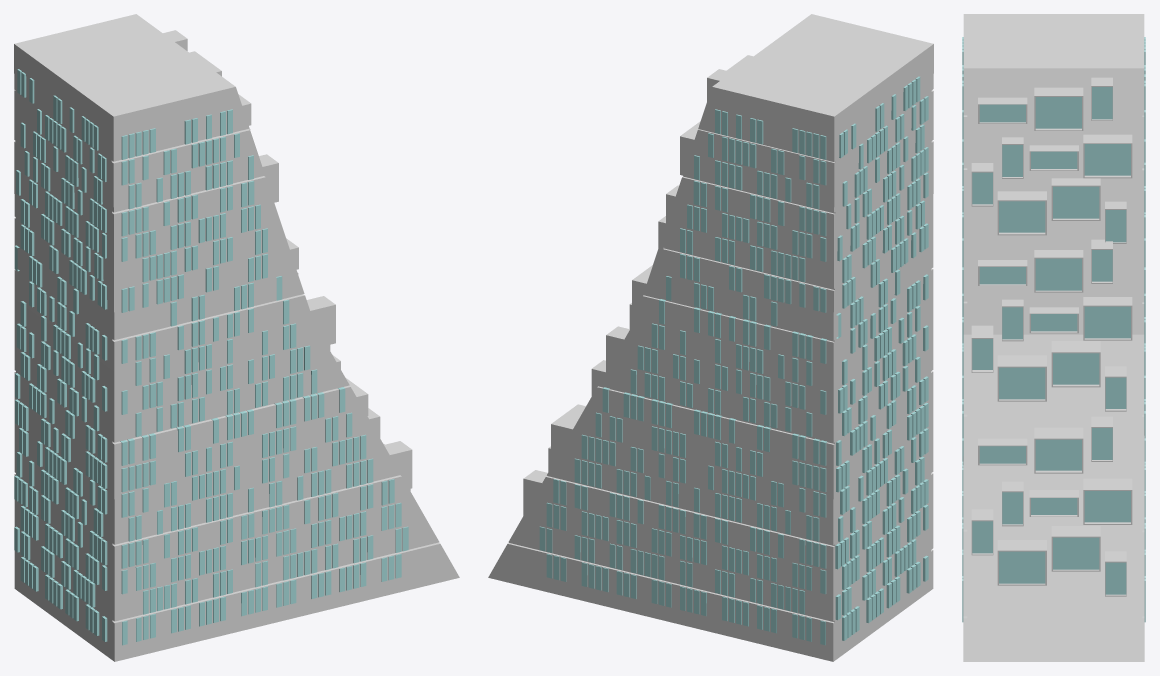
File: building petite fenetres blanche.fbx
3 renders of one model, left to right at view 1: azimuth 30°, elevation 25°; view 2: azimuth 150°, elevation 25°; view 3: azimuth 270°, elevation 25°, orthographic. The views are drawn at different scales.
Parts seen in each view (by area): view 1: Cube, Cube.001, Cube.003, Cube.004; view 2: Cube, Cube.002, Cube.003, Cube.004; view 3: Cube, Cube.027, Cube.004, Cube.001, Cube.002.
Part boxes in pixels (bbox=[...]): Cube: bbox=[14, 14, 459, 661]; Cube.001: bbox=[120, 109, 408, 645]; Cube.003: bbox=[14, 69, 107, 641]; Cube.004: bbox=[163, 30, 412, 490]; Cube: bbox=[488, 14, 933, 661]; Cube.002: bbox=[539, 109, 826, 645]; Cube.003: bbox=[835, 76, 928, 640]; Cube.004: bbox=[523, 55, 753, 515]; Cube: bbox=[963, 14, 1144, 661]; Cube.027: bbox=[972, 87, 1130, 594]; Cube.004: bbox=[971, 77, 1132, 596]; Cube.001: bbox=[962, 37, 963, 622]; Cube.002: bbox=[1144, 37, 1145, 622].
Size of the model in its own units: 1864 by 2793 by 938.
